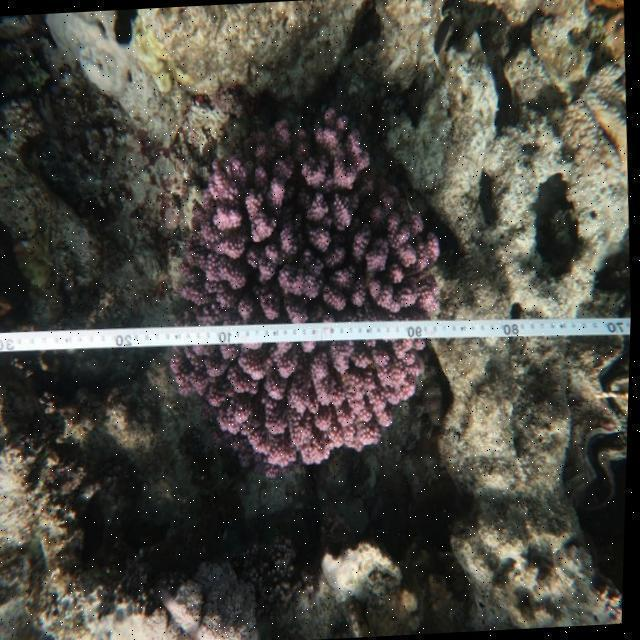Healthy Coral: (154, 97, 461, 483)
